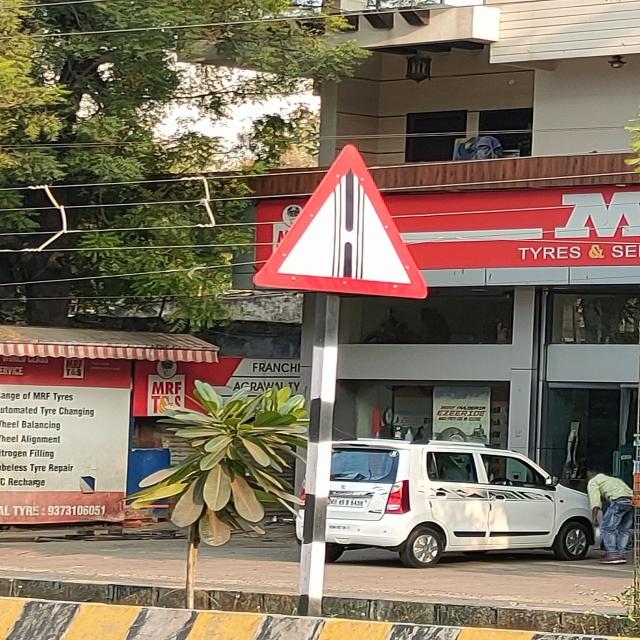GAP_IN_MEDIAN: (256, 143, 433, 298)
